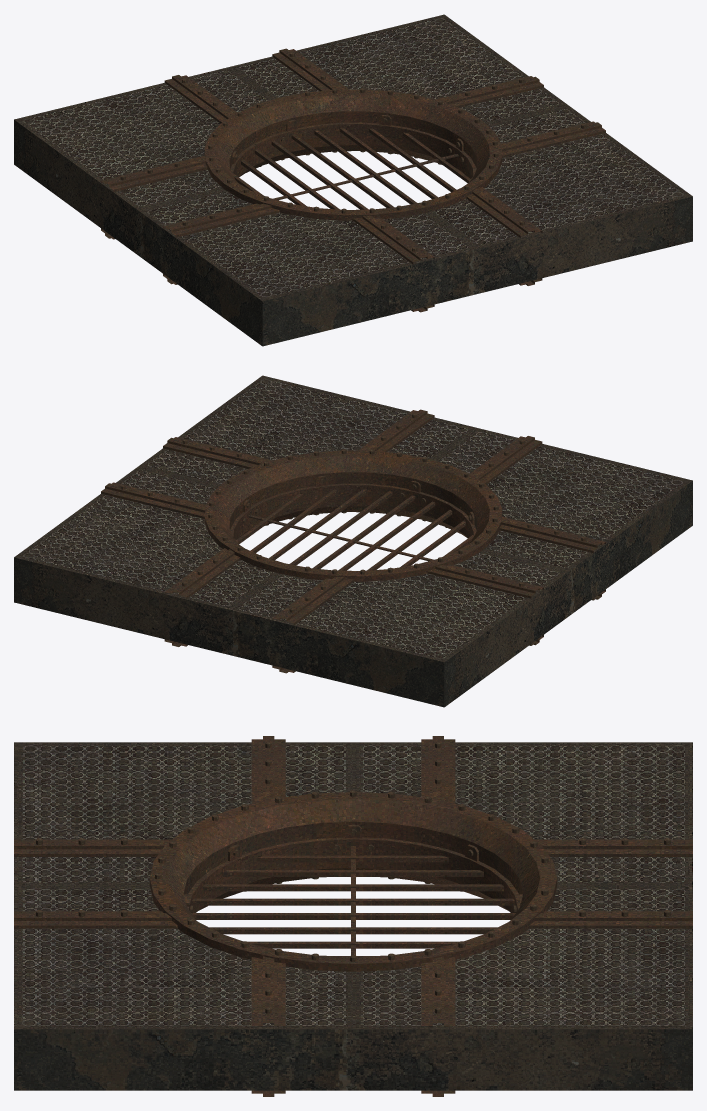
File: floor_ceiling_rtx_3.glb
3 views of the same model, one above another, from view 1: azimuth 30°, elevation 25°; view 2: azimuth 150°, elevation 25°; view 3: azimuth 270°, elevation 25° (orthographic). The views are drawn at different scales.
Parts seen in each view (by area): view 1: floor_ceiling_rtx_3, floor_ceiling_rtx_3_bars_child; view 2: floor_ceiling_rtx_3, floor_ceiling_rtx_3_bars_child; view 3: floor_ceiling_rtx_3, floor_ceiling_rtx_3_bars_child.
Part boxes in pixels (x1=…): floor_ceiling_rtx_3: x1=14, y1=14, x2=692, y2=346; floor_ceiling_rtx_3_bars_child: x1=230, y1=115, x2=476, y2=209; floor_ceiling_rtx_3: x1=14, y1=375, x2=692, y2=707; floor_ceiling_rtx_3_bars_child: x1=230, y1=476, x2=476, y2=570; floor_ceiling_rtx_3: x1=14, y1=736, x2=692, y2=1096; floor_ceiling_rtx_3_bars_child: x1=184, y1=824, x2=522, y2=956.
Size of the model in its own units: 4 by 0.5503 by 4.
3 materials, 3 textured.
